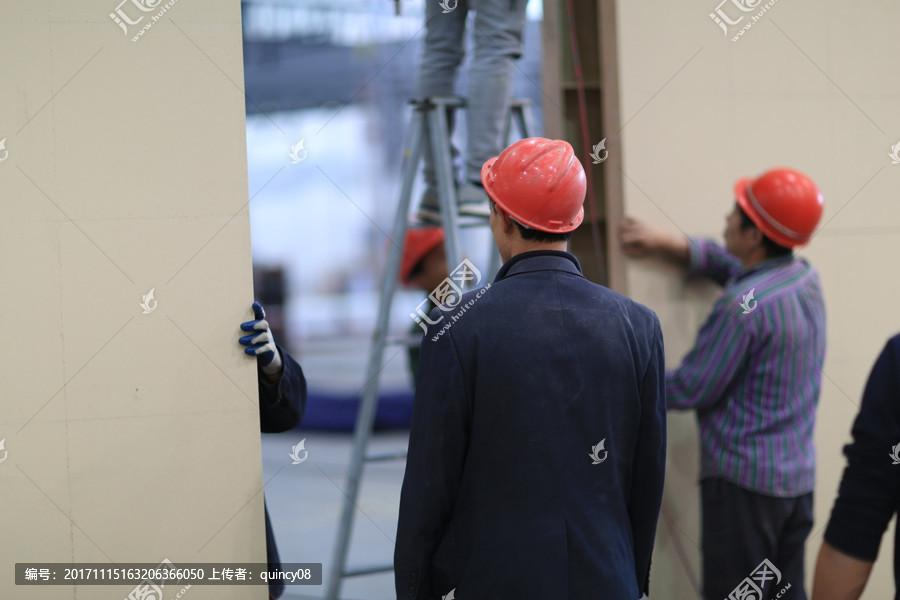helmet: (485, 137, 591, 232), (732, 168, 824, 245), (380, 217, 457, 287)
